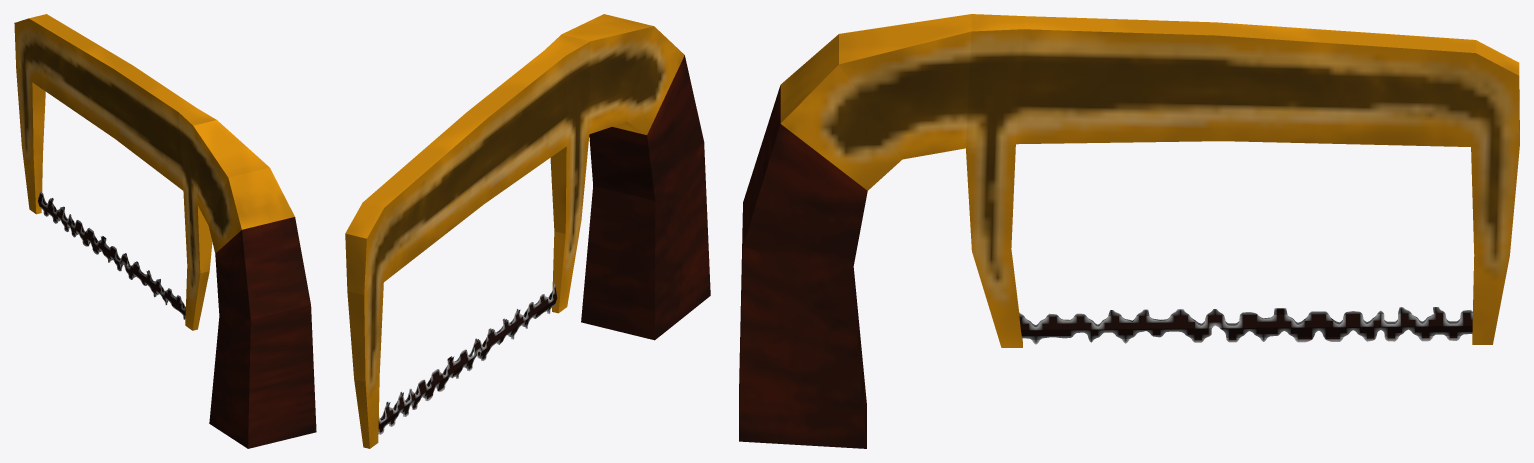
The model's file is saw.fbx.
The picture shows the model from 3 angles, left to right: view 1: azimuth 30°, elevation 25°; view 2: azimuth 150°, elevation 25°; view 3: azimuth 270°, elevation 25°; orthographic projection. The views are drawn at different scales.
Visible parts, largest first — view 1: Cube; view 2: Cube; view 3: Cube.
Boxes of the visible parts, bbox=[...] form: Cube: bbox=[14, 14, 316, 448]; Cube: bbox=[345, 14, 710, 448]; Cube: bbox=[739, 14, 1519, 448].
Size of the model in its own units: 37.11 by 139 by 243.
Materials: 1 (1 with a texture image).
